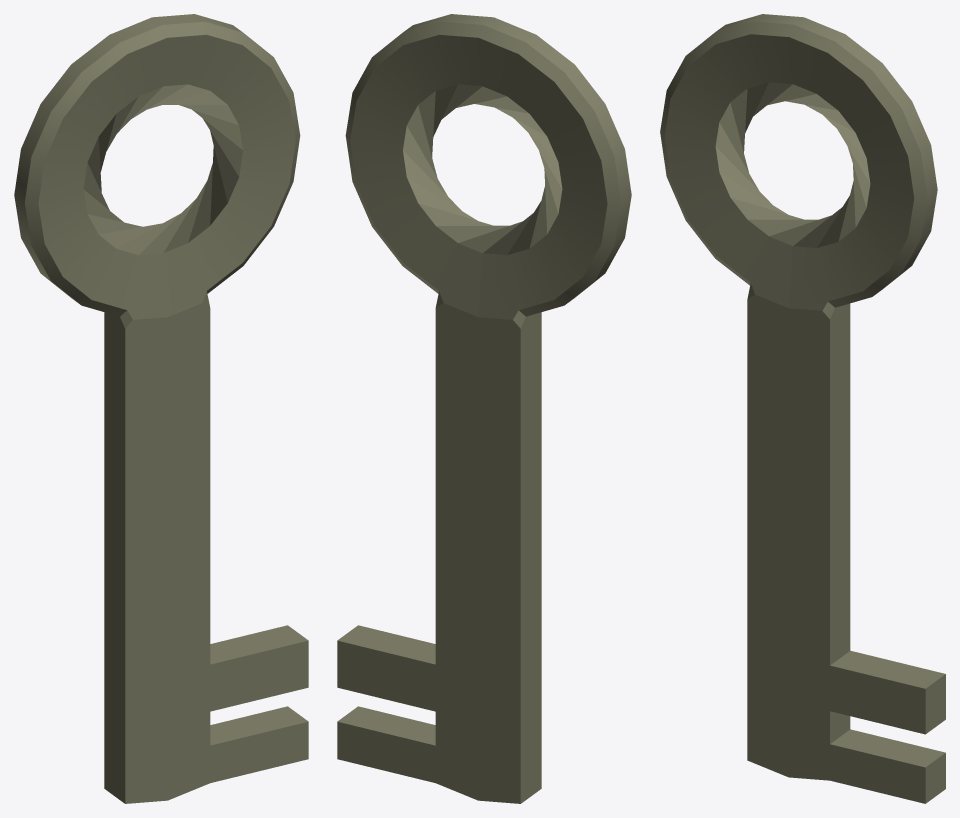
File: Key.fbx
3 renders of one model, left to right at view 1: azimuth 30°, elevation 25°; view 2: azimuth 150°, elevation 25°; view 3: azimuth 330°, elevation 25°, orthographic. The views are drawn at different scales.
Parts seen in each view (by area): view 1: Key1; view 2: Key1; view 3: Key1.
Boxes of the visible parts, box(x1,y1,x2,y2) form: Key1: box(14, 14, 308, 803); Key1: box(337, 14, 631, 803); Key1: box(660, 14, 945, 803).
Bounding box in the file's own units: 4.92 × 13.01 × 0.6413.
